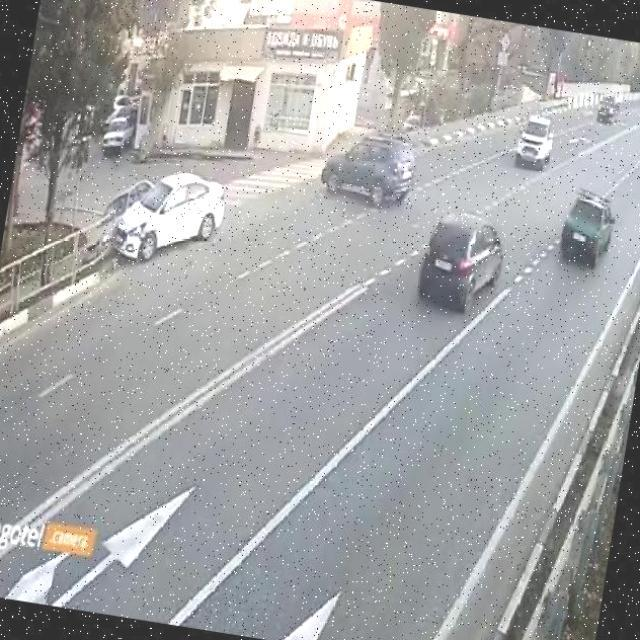accident: (91, 197, 161, 262)
